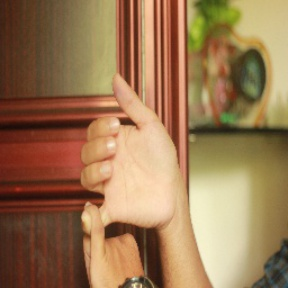S: (73, 70, 182, 288)
